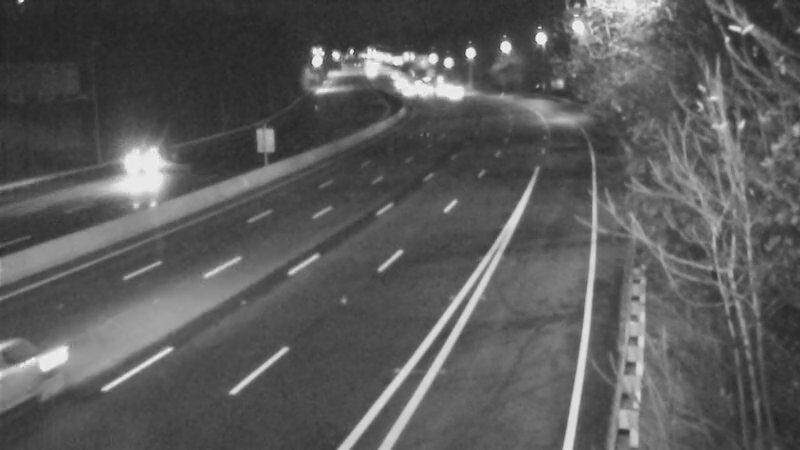vehicle: (100, 121, 180, 201), (429, 67, 479, 117)
